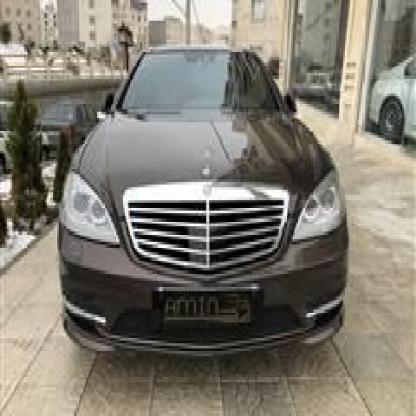Car: (59, 39, 343, 361), (360, 54, 416, 145), (35, 94, 85, 154)
